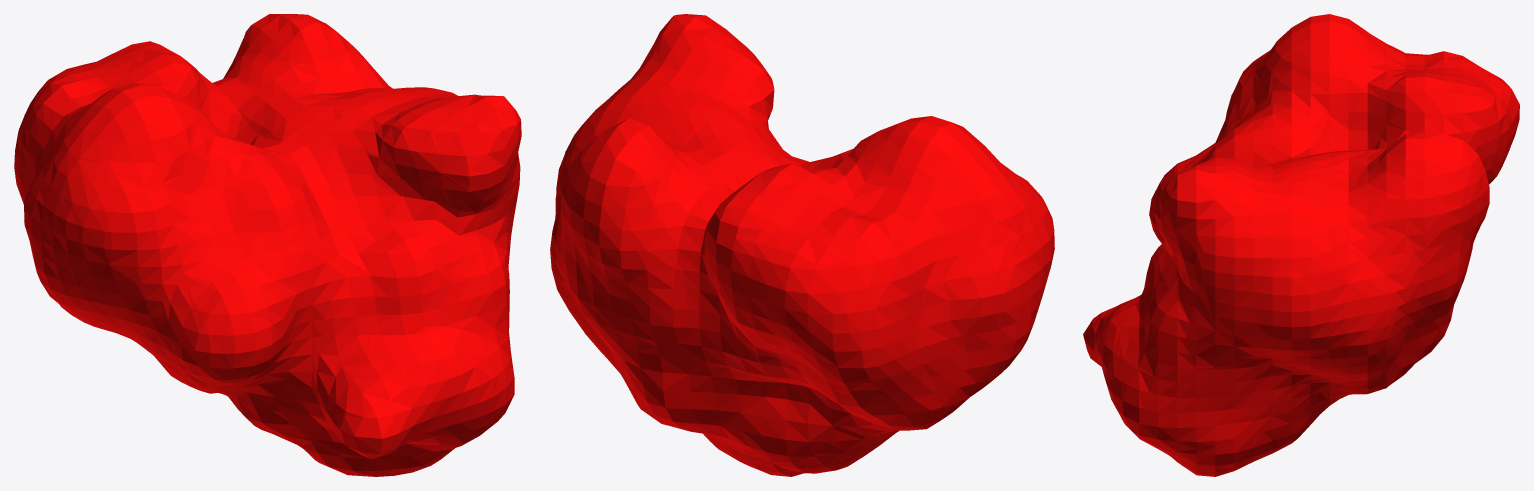
Rendered from gltL_coarse.dae.
3 renders of one model, left to right at view 1: azimuth 30°, elevation 25°; view 2: azimuth 150°, elevation 25°; view 3: azimuth 270°, elevation 25°, orthographic. The views are drawn at different scales.
Visible parts, largest first — view 1: gltL; view 2: gltL; view 3: gltL.
Boxes of the visible parts, x1=… form: gltL: x1=14, y1=14, x2=521, y2=476; gltL: x1=550, y1=14, x2=1054, y2=476; gltL: x1=1083, y1=14, x2=1519, y2=476.
Bounding box in the file's own units: 55.48 × 46.91 × 51.65.
